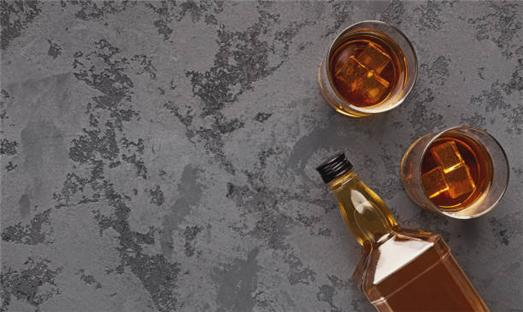alcohol: (315, 154, 489, 312), (398, 124, 509, 223), (321, 17, 420, 120)
